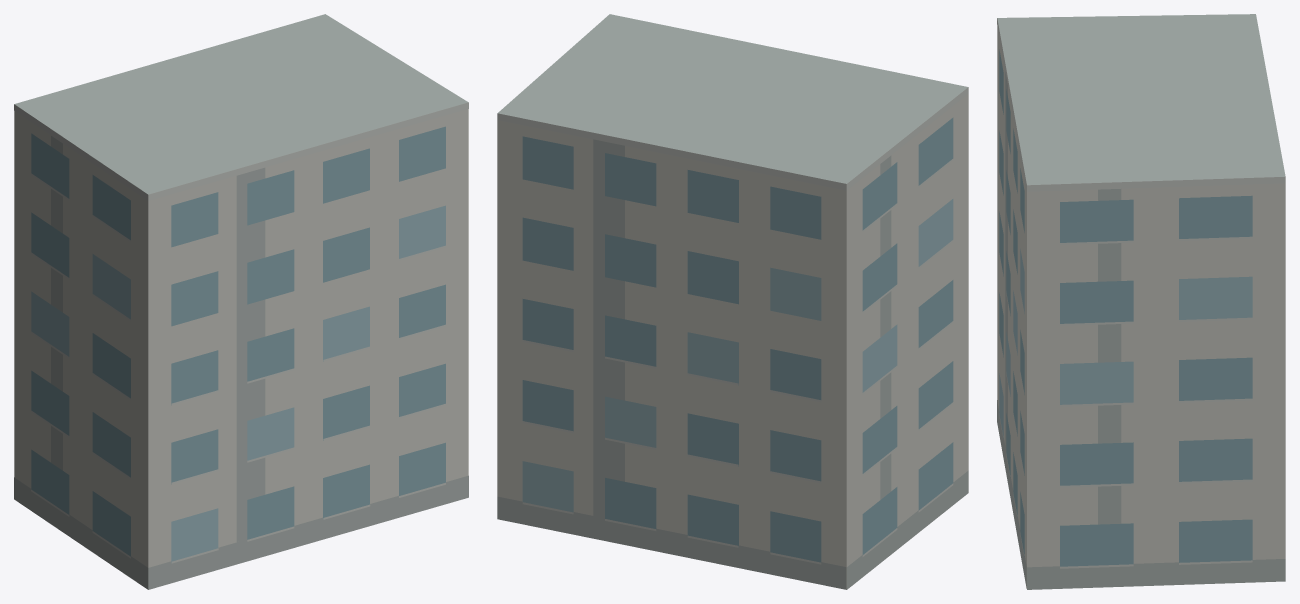
The model's file is survey-upis-32819839.glb.
3 renders of one model, left to right at view 1: azimuth 30°, elevation 25°; view 2: azimuth 150°, elevation 25°; view 3: azimuth 270°, elevation 25°, orthographic. The views are drawn at different scales.
Visible parts, largest first — view 1: survey-upis-32819839.tmp; view 2: survey-upis-32819839.tmp; view 3: survey-upis-32819839.tmp.
Part boxes in pixels (x1,y1,x2,y2): survey-upis-32819839.tmp: [14, 14, 468, 589]; survey-upis-32819839.tmp: [497, 14, 968, 589]; survey-upis-32819839.tmp: [997, 14, 1285, 589].
Bounding box in the file's own units: 13.44 × 14.8 × 9.57.
